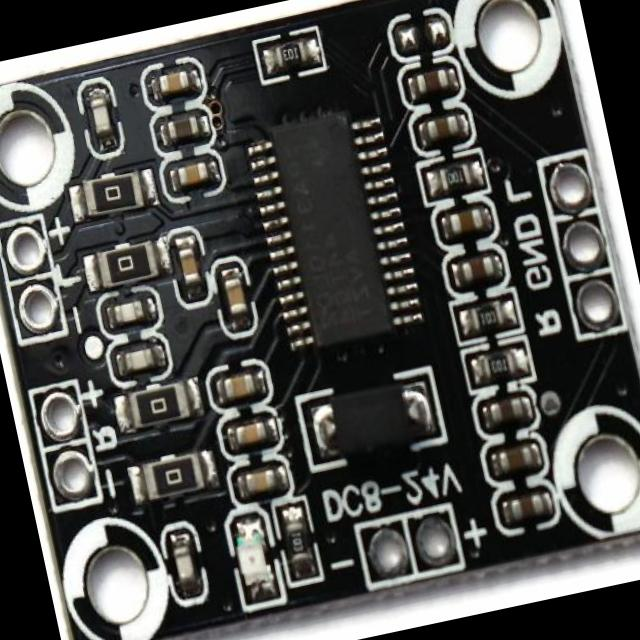IC: (253, 102, 407, 350)
LED: (233, 527, 270, 591)
capacitor: (412, 61, 452, 101), (221, 270, 252, 320), (218, 366, 258, 402), (175, 242, 202, 295), (242, 465, 278, 503), (422, 110, 462, 144), (457, 252, 494, 288), (162, 110, 198, 146), (121, 340, 158, 374), (170, 544, 196, 592), (496, 442, 534, 474), (156, 65, 194, 97), (488, 394, 526, 424), (507, 492, 545, 522), (449, 206, 484, 237), (174, 158, 210, 188), (89, 92, 112, 137), (232, 418, 270, 445), (113, 300, 145, 328)
diode: (316, 379, 428, 461)
resistor: (142, 449, 206, 498), (79, 169, 140, 217), (130, 381, 192, 426), (96, 238, 156, 283), (278, 512, 314, 574), (473, 349, 522, 386), (267, 35, 310, 74), (434, 160, 474, 197), (469, 300, 504, 332)
